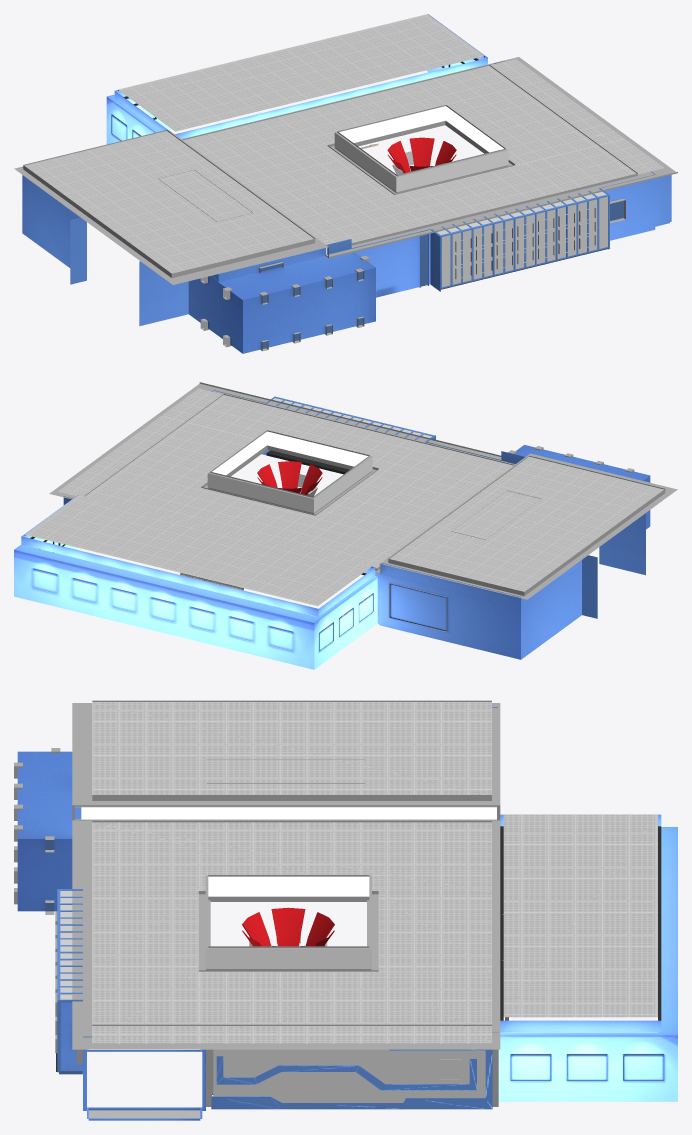
File: room2.glb
3 views of the same model, one above another, from view 1: azimuth 30°, elevation 25°; view 2: azimuth 150°, elevation 25°; view 3: azimuth 270°, elevation 25° (orthographic). The views are drawn at different scales.
Visible parts, largest first — view 1: 顶棚, 蓝色墙体, 顶棚钢架, 学生作品展区墙, 展示区自发光灯罩, 展示区自发光灯体, 学生作品展示框, YFCG_2688, 优秀论文展区论文展示框; view 2: 顶棚, 蓝色墙体, 顶棚钢架, 展示区自发光灯罩, 展示区自发光灯体, YFCG_2688, YFCG_2663, 学生作品展区墙; view 3: 顶棚, 蓝色墙体, 顶棚钢架, 证书展区墙, YFCG_2693, 展示区自发光灯体, 展示区自发光灯罩, YFCG_2688, 专利证书展区顶棚钢架, 学生作品展区墙, YFCG_2717, 优秀论文展区论文展示框.
Part boxes in pixels (x1,y1,x2,y2): 顶棚: (24,14,663,273); 蓝色墙体: (22,14,671,353); 顶棚钢架: (14,57,677,284); 学生作品展区墙: (437,191,607,287); 展示区自发光灯罩: (334,132,508,192); 展示区自发光灯体: (339,106,503,152); 学生作品展示框: (455,207,595,279); YFCG_2688: (387,137,456,173); 优秀论文展区论文展示框: (200,255,369,351); 顶棚: (25,388,663,606); 蓝色墙体: (14,390,650,669); 顶棚钢架: (49,382,677,599); 展示区自发光灯罩: (207,456,372,512); 展示区自发光灯体: (212,431,368,475); YFCG_2688: (257,461,322,494); YFCG_2663: (266,450,349,474); 学生作品展区墙: (273,398,431,437); 顶棚: (92,702,657,1043); 蓝色墙体: (17,707,677,1120); 顶棚钢架: (72,700,500,1106); 证书展区墙: (212,1049,485,1102); YFCG_2693: (81,807,496,819); 展示区自发光灯体: (208,876,369,896); 展示区自发光灯罩: (205,949,371,968); YFCG_2688: (242,907,334,946); 专利证书展区顶棚钢架: (500,826,661,1020); 学生作品展区墙: (60,891,72,999); YFCG_2717: (88,1110,200,1118); 优秀论文展区论文展示框: (14,748,60,914).
Bounding box in the file's own units: 35.24 × 5.07 × 29.32.
Materials: 24 (6 with a texture image).
